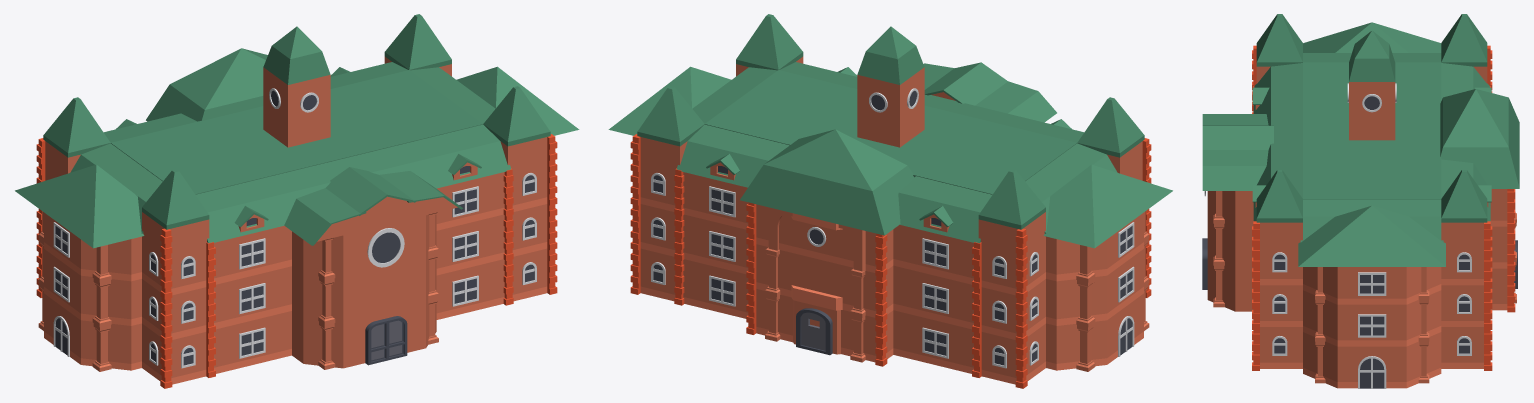
Rendered from Mairie.fbx.
3 renders of one model, left to right at view 1: azimuth 30°, elevation 25°; view 2: azimuth 150°, elevation 25°; view 3: azimuth 270°, elevation 25°, orthographic. The views are drawn at different scales.
Parts seen in each view (by area): view 1: roof_point_287, roof_point_divided_251, roof_barn_348, wall_cornerDiagonal_342, wall_cornerDiagonal_338, block_222, block_corner_large_278, block_corner_large_282, wall_cornerDiagonal_345, roof_point_divided_236, roof_point_rounded_250, roof_point_rounded_248 (+88 smaller); view 2: roof_point_divided_251, roof_point_287, block_222, block_corner_large_277, block_corner_large_280, roof_point_divided_236, roof_point_rounded_240, roof_point_rounded_246, roof_point_rounded_250, roof_point_rounded_248, roof_point_316, roof_424 (+90 smaller); view 3: roof_point_316, roof_point_divided_251, roof_barn_349, roof_point_287, roof_point_divided_236, roof_point_rounded_248, roof_point_rounded_246, roof_point_rounded_250, roof_point_rounded_240, roof_424, block_corner_large_301, block_corner_large_299 (+80 smaller).
Boxes of the visible parts, x1=… form: roof_point_287: x1=15, y1=164, x2=144, y2=248; roof_point_divided_251: x1=146, y1=48, x2=267, y2=121; roof_barn_348: x1=284, y1=188, x2=366, y2=245; wall_cornerDiagonal_342: x1=292, y1=266, x2=363, y2=323; wall_cornerDiagonal_338: x1=292, y1=311, x2=363, y2=368; block_222: x1=263, y1=67, x2=330, y2=129; block_corner_large_278: x1=74, y1=316, x2=141, y2=370; block_corner_large_282: x1=74, y1=271, x2=141, y2=325; wall_cornerDiagonal_345: x1=292, y1=230, x2=363, y2=278; roof_point_divided_236: x1=263, y1=26, x2=330, y2=84; roof_point_rounded_250: x1=142, y1=169, x2=209, y2=229; roof_point_rounded_248: x1=483, y1=86, x2=550, y2=146; roof_point_divided_251: x1=740, y1=129, x2=913, y2=235; roof_point_287: x1=1043, y1=164, x2=1172, y2=248; block_222: x1=857, y1=67, x2=924, y2=129; block_corner_large_277: x1=1046, y1=316, x2=1113, y2=370; block_corner_large_280: x1=1046, y1=271, x2=1113, y2=325; roof_point_divided_236: x1=857, y1=26, x2=924, y2=84; roof_point_rounded_240: x1=978, y1=169, x2=1045, y2=229; roof_point_rounded_246: x1=637, y1=86, x2=704, y2=146; roof_point_rounded_250: x1=1077, y1=97, x2=1144, y2=157; roof_point_rounded_248: x1=736, y1=14, x2=803, y2=70; roof_point_316: x1=608, y1=66, x2=731, y2=135; roof_424: x1=924, y1=62, x2=1007, y2=105; roof_point_316: x1=1298, y1=205, x2=1445, y2=266; roof_point_divided_251: x1=1440, y1=89, x2=1519, y2=188; roof_barn_349: x1=1202, y1=150, x2=1268, y2=190; roof_point_287: x1=1303, y1=22, x2=1441, y2=52; roof_point_divided_236: x1=1349, y1=30, x2=1395, y2=81; roof_point_rounded_248: x1=1256, y1=170, x2=1302, y2=222; roof_point_rounded_246: x1=1441, y1=170, x2=1487, y2=222; roof_point_rounded_250: x1=1256, y1=14, x2=1302, y2=66; roof_point_rounded_240: x1=1441, y1=14, x2=1487, y2=66; roof_424: x1=1202, y1=125, x2=1273, y2=149; block_corner_large_301: x1=1395, y1=290, x2=1441, y2=346; block_corner_large_299: x1=1395, y1=332, x2=1441, y2=388.
Size of the model in its own units: 114 by 60 by 68.82.
